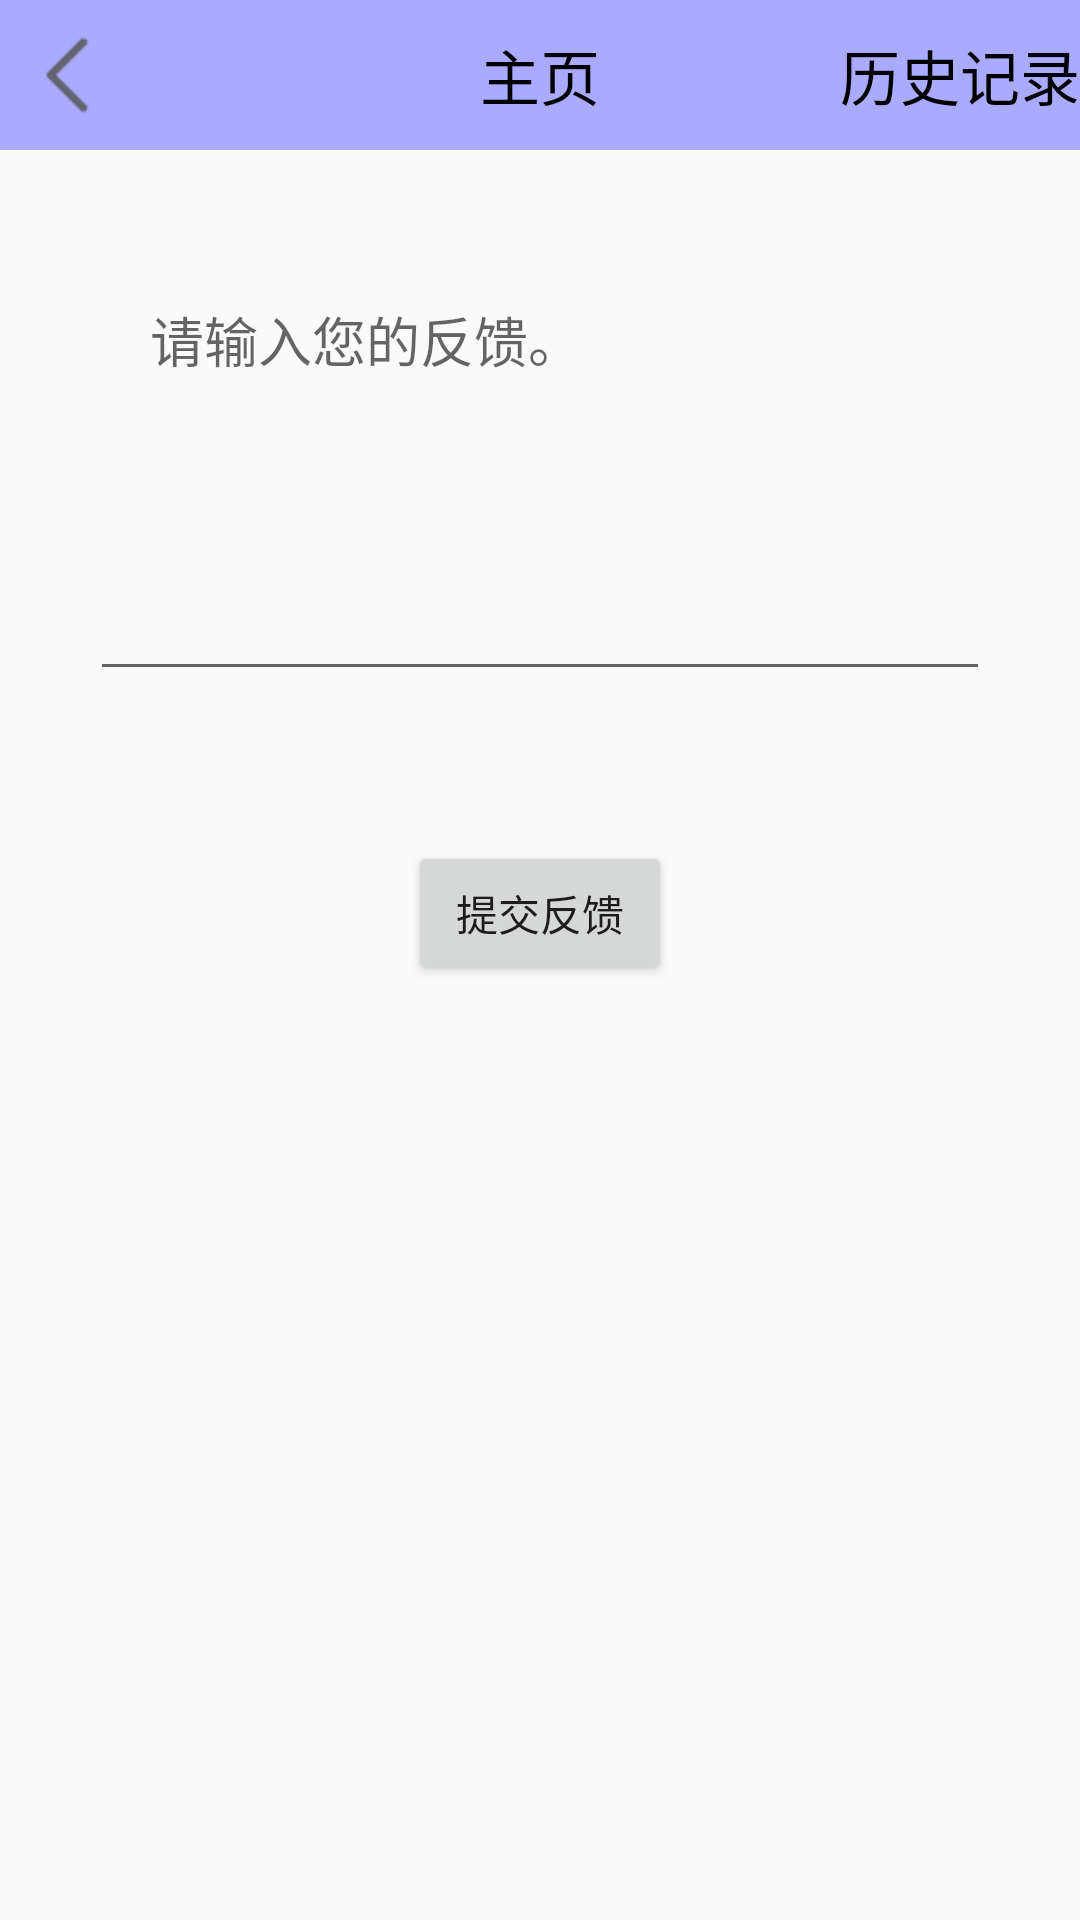

Icons on this 1080×1920 Android screen, each with its box as box(x1, y1, x2, y2):
back: box(46, 37, 88, 113)
